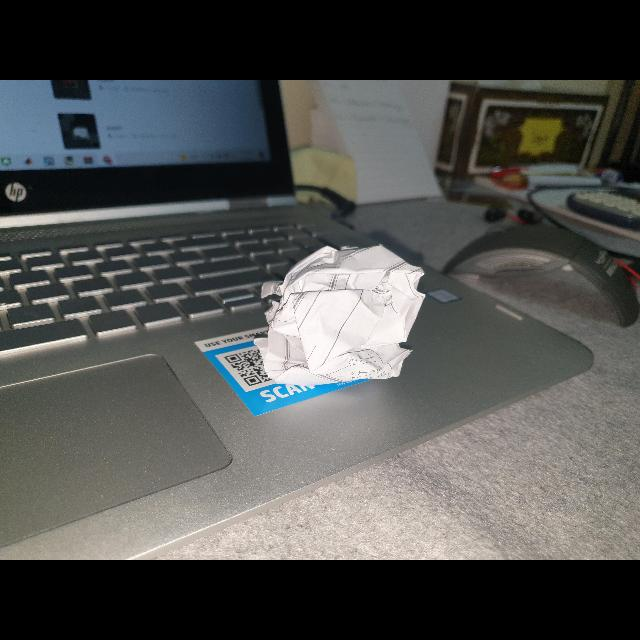scrap_paper: (244, 238, 431, 394)
